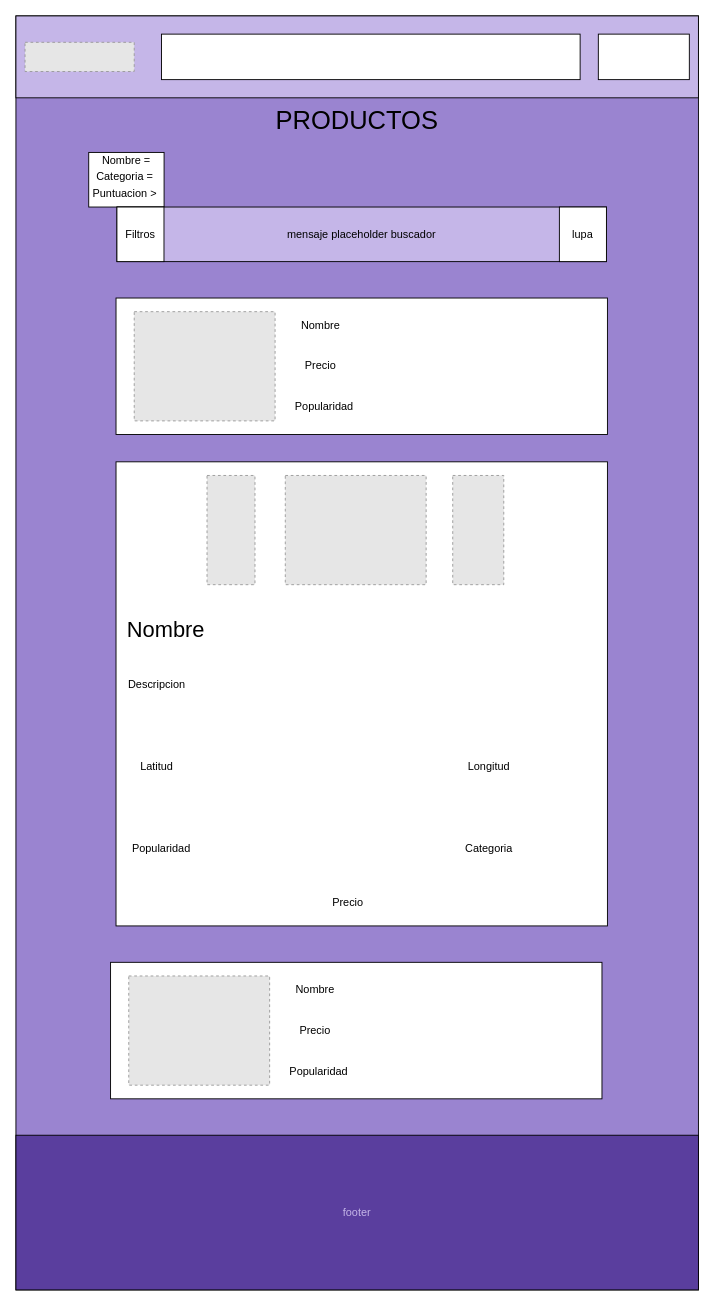
The diagram is 714 pixels wide and 1306 high, and some of its shapes have lost their labels. Grey dashed boxes stand in for pictures. Each missing label, with the centre of its shape:
menu: the point at 370,56
nombre usuario o iniciar sesion: the point at 643,56
